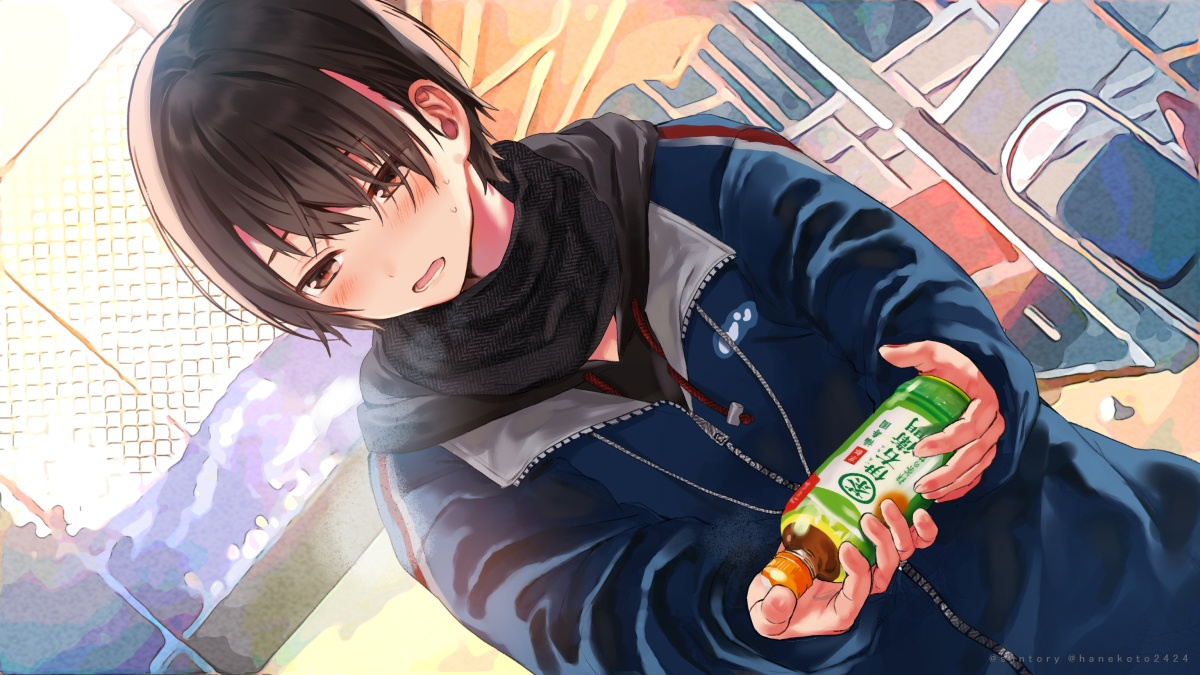纸片人正脸: (140, 9, 482, 342)
